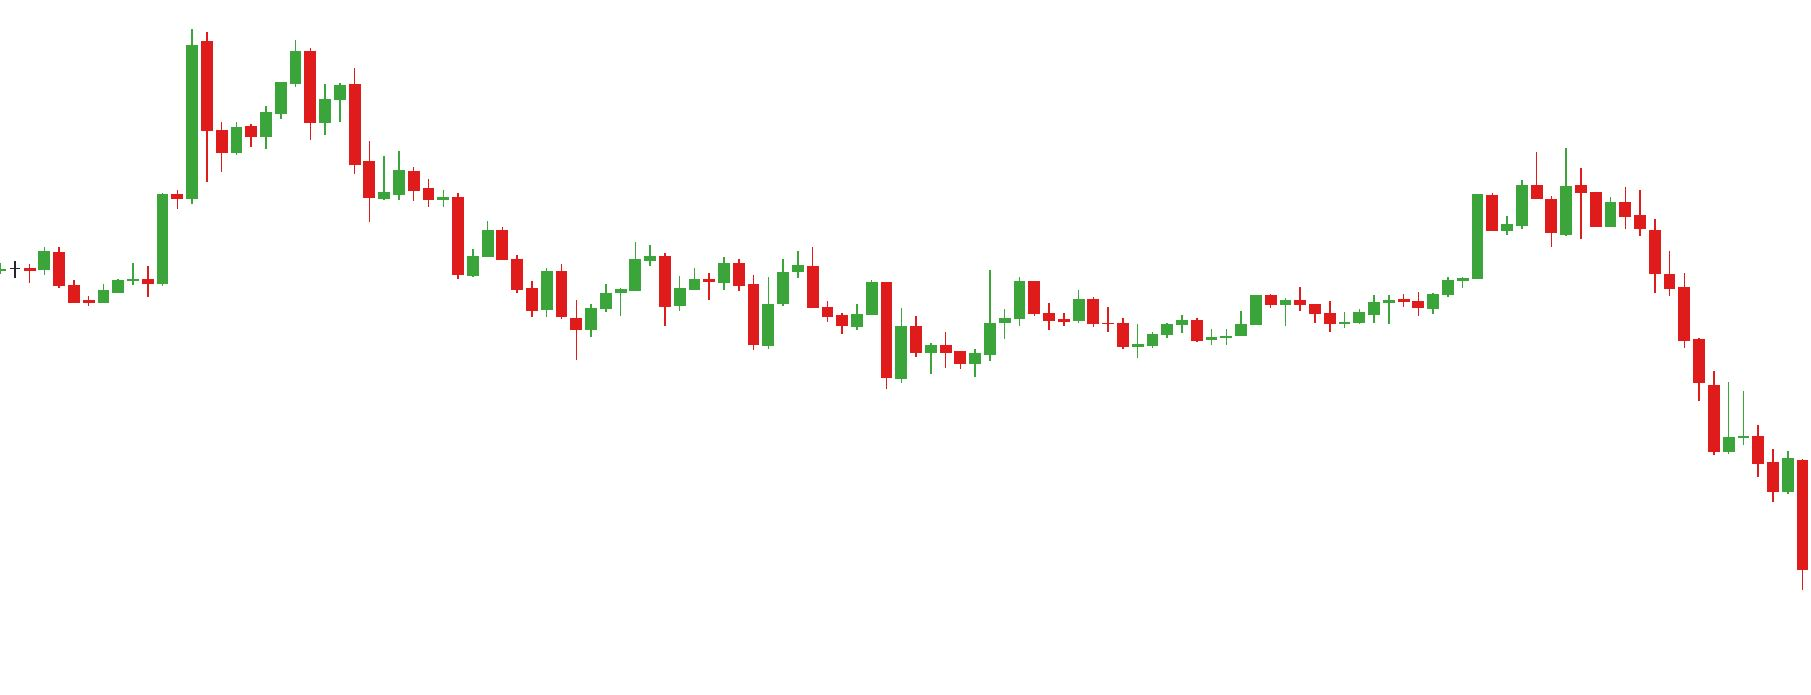buy: (571, 281, 910, 394)
